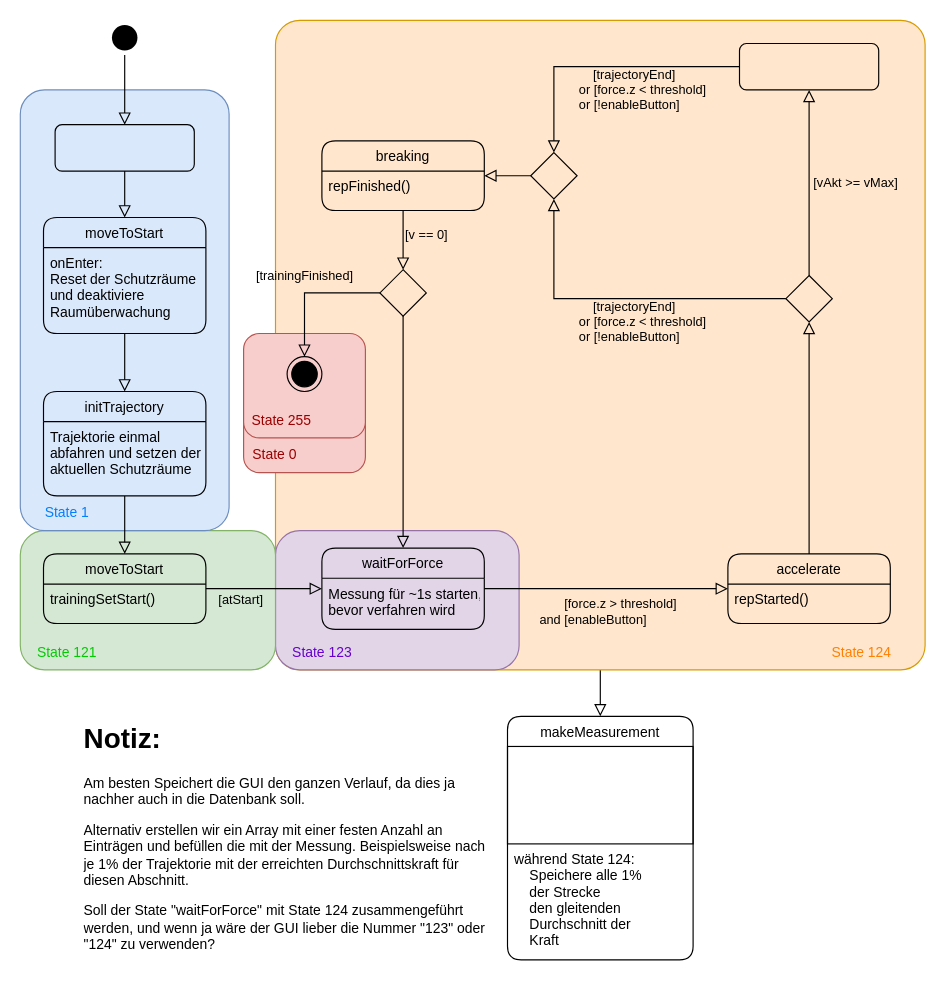
This 945x984 diagram has some shape labels left out. The centre of each missing label's shape, as x and y in pixels:
constant: pixel 808 66
Initialize: pixel 124 147
während State 123: Speichere alle paar ms den gleitenden Durchschnitt der Kraft: pixel 599 794
